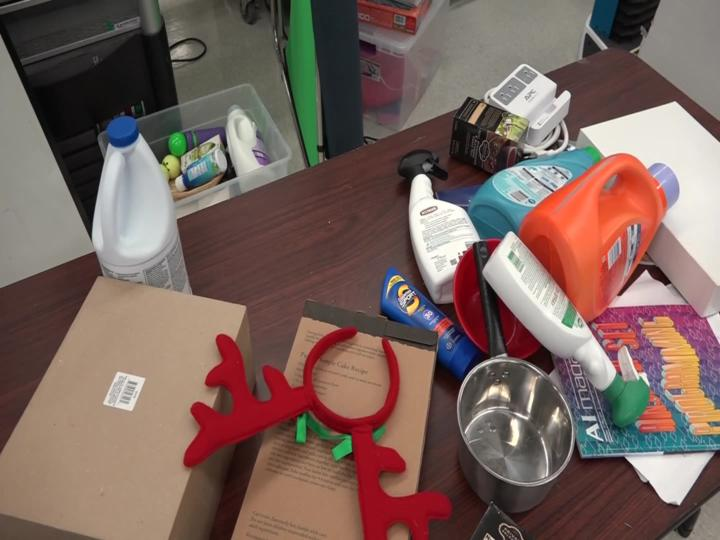downy: (455, 137, 612, 269)
